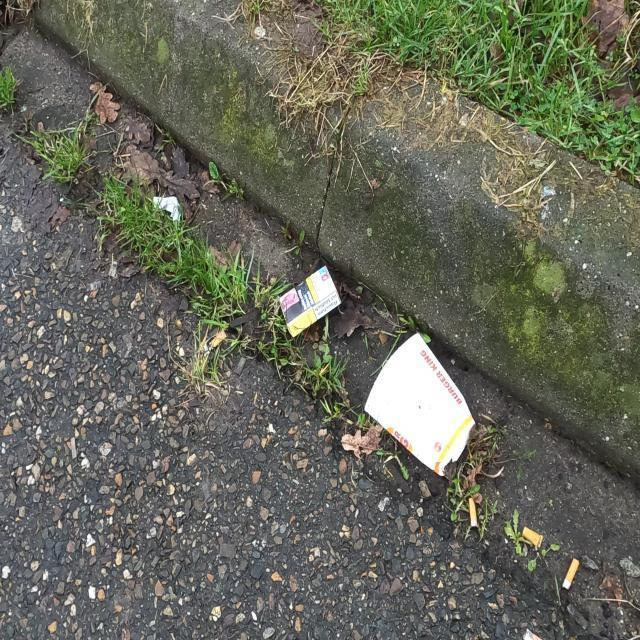Cup: (362, 328, 478, 480)
Paper: (276, 261, 344, 340), (152, 194, 182, 223)
